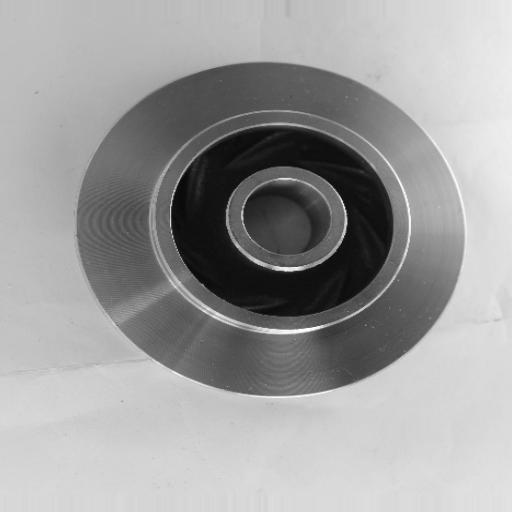polished_casting: (70, 59, 472, 402)
